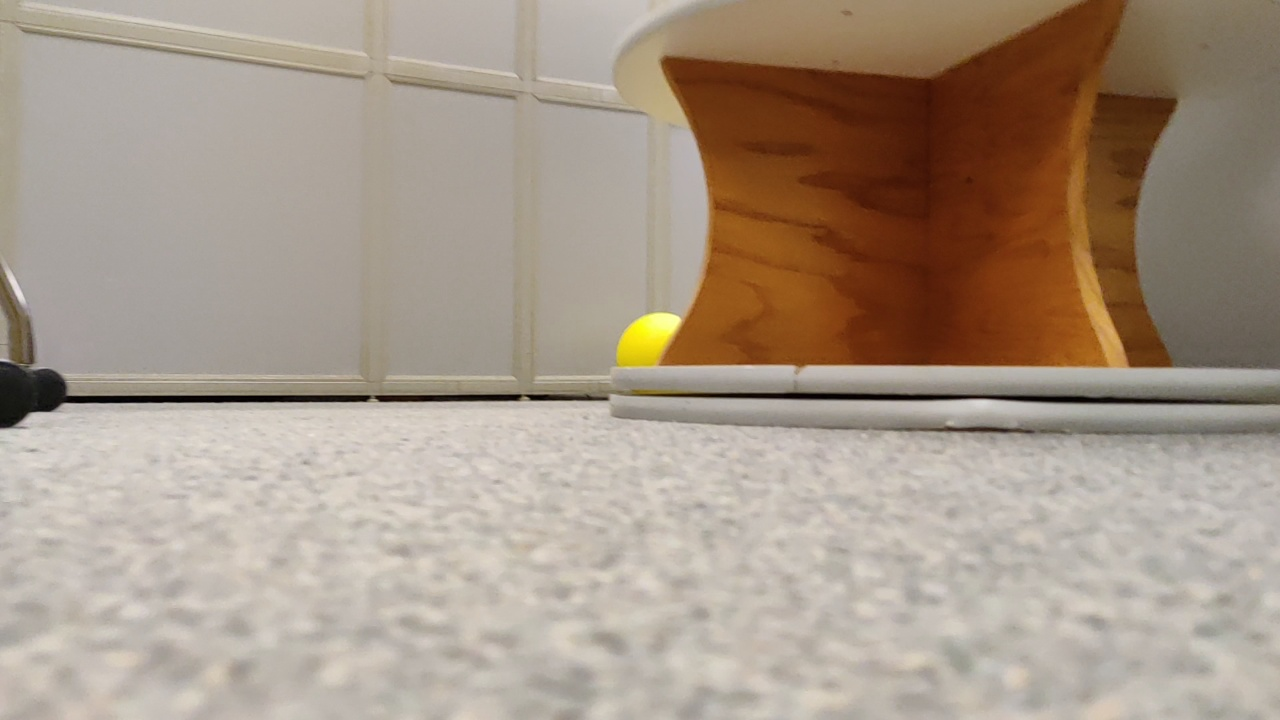Ball: (611, 306, 692, 383)
